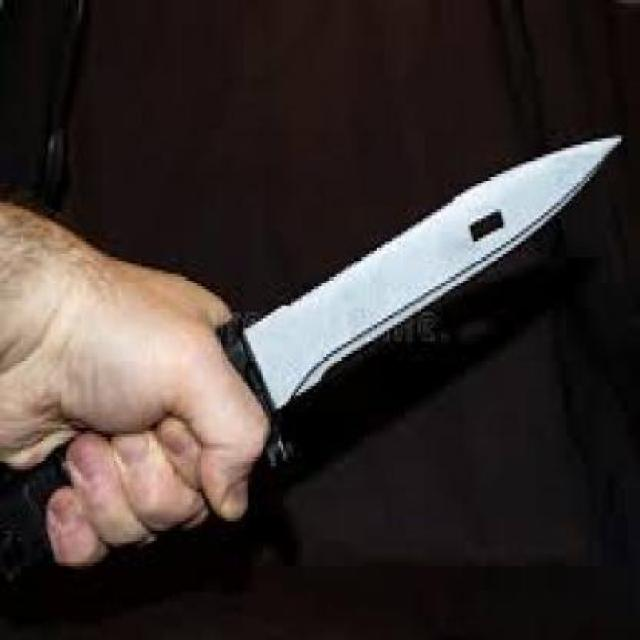weapon: (20, 131, 628, 550)
